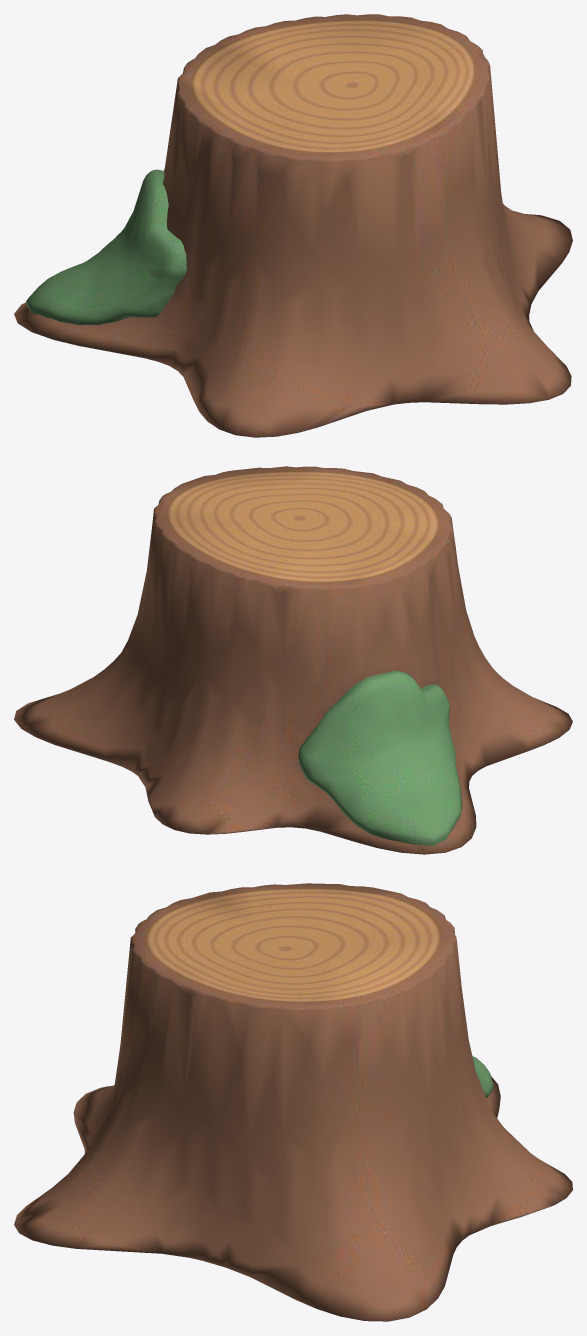
The model's file is tree-stump.glb.
3 views of the same model, one above another, from view 1: azimuth 30°, elevation 25°; view 2: azimuth 150°, elevation 25°; view 3: azimuth 270°, elevation 25° (orthographic). The views are drawn at different scales.
Parts seen in each view (by area): view 1: tree-stump_body; view 2: tree-stump_body; view 3: tree-stump_body.
Boxes of the visible parts, x1,y1,x2,y2 form: tree-stump_body: [14, 14, 572, 437]; tree-stump_body: [14, 466, 572, 854]; tree-stump_body: [14, 883, 572, 1321].
Size of the model in its own units: 1.07 by 0.484 by 0.9809.
Materials: 1 (1 with a texture image).
